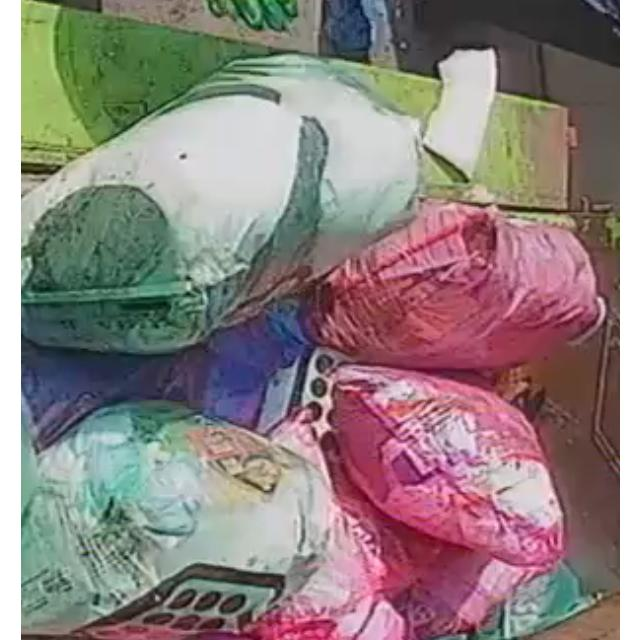general_trashbag: (21, 55, 419, 353), (21, 400, 330, 631)
other_trashbag: (308, 201, 595, 368), (329, 364, 561, 565)
